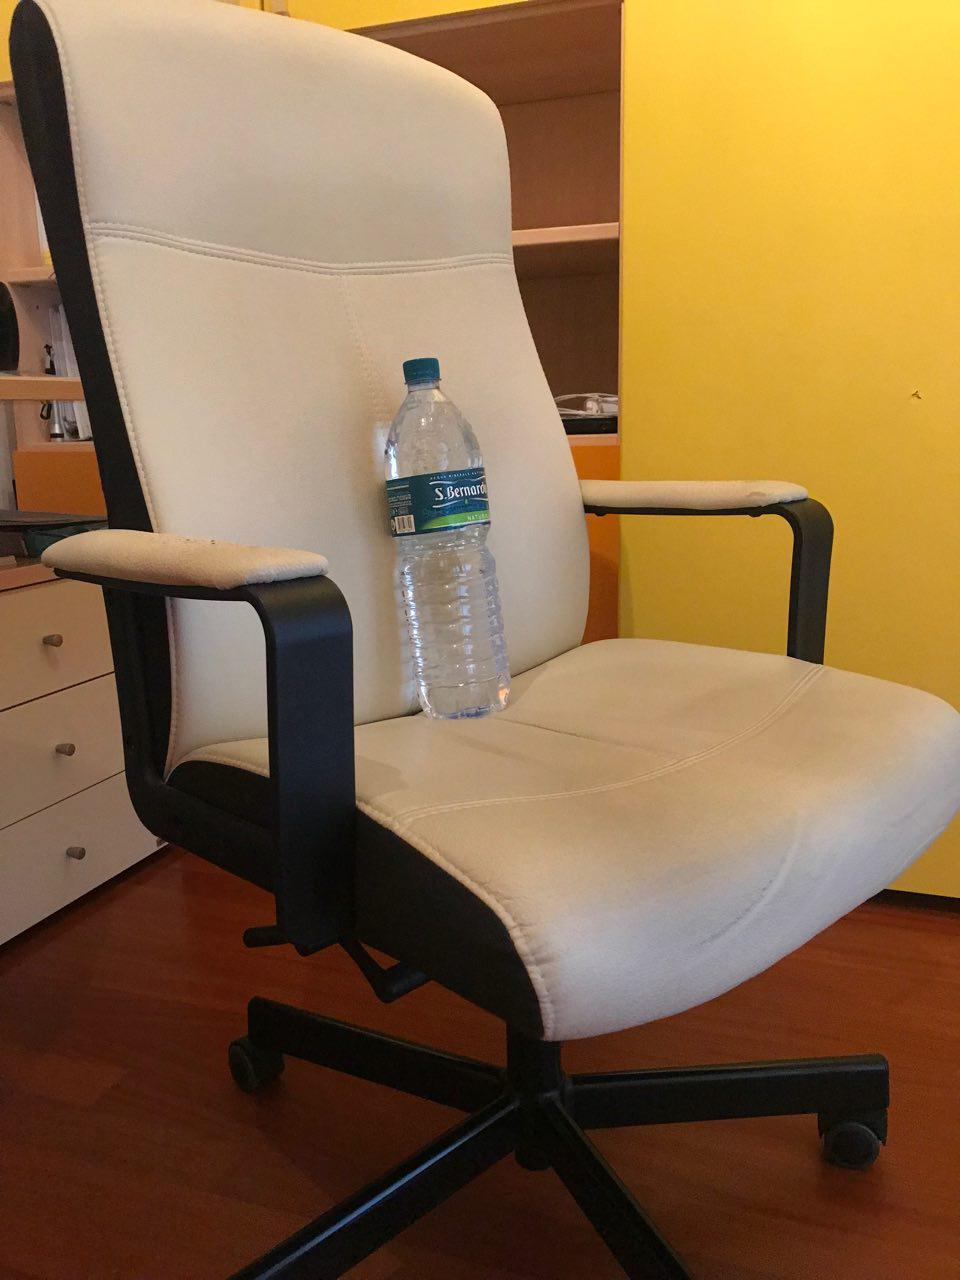san_bernardo: (383, 355, 510, 720)
